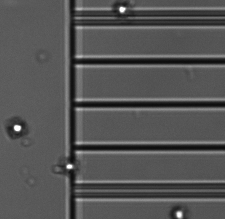Living Cell: (6, 120, 27, 138), (61, 159, 79, 174), (115, 2, 132, 16), (172, 206, 187, 219)
